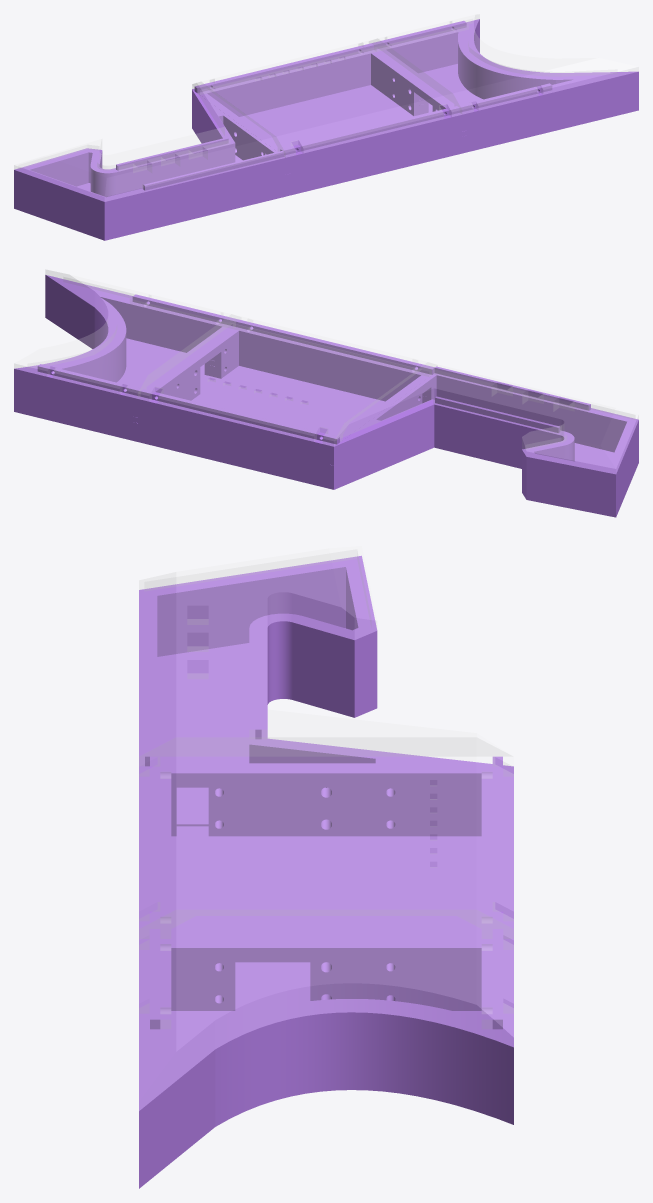
The model's file is Assem2.glb.
The picture shows the model from 3 angles, top to bottom: view 1: azimuth 30°, elevation 25°; view 2: azimuth 150°, elevation 25°; view 3: azimuth 270°, elevation 25°; orthographic projection. The views are drawn at different scales.
Parts seen in each view (by area): view 1: Base_01-1, Neck_03-1, Top_Cover_01-1, Base_02-1, Neck_Cover_03-1, Top_Cover_02-1; view 2: Base_01-1, Neck_03-1, Top_Cover_01-1, Base_02-1, Neck_Cover_03-1, Top_Cover_02-1; view 3: Top_Cover_01-1, Base_01-1, Base_02-1, Top_Cover_02-1, Neck_03-1, Neck_Cover_03-1.
Boxes of the visible parts, <box> form: Base_01-1: <box>192,43,466,196</box>; Neck_03-1: <box>14,89,290,240</box>; Top_Cover_01-1: <box>192,39,461,156</box>; Base_02-1: <box>372,19,638,153</box>; Neck_Cover_03-1: <box>14,82,284,201</box>; Top_Cover_02-1: <box>369,14,638,113</box>; Base_01-1: <box>132,319,434,489</box>; Neck_03-1: <box>329,366,638,517</box>; Top_Cover_01-1: <box>138,314,437,445</box>; Base_02-1: <box>14,275,238,441</box>; Neck_Cover_03-1: <box>335,362,638,473</box>; Top_Cover_02-1: <box>14,270,240,397</box>; Top_Cover_01-1: <box>139,738,513,938</box>; Base_01-1: <box>139,756,513,1001</box>; Base_02-1: <box>139,929,513,1188</box>; Top_Cover_02-1: <box>139,910,513,1110</box>; Neck_03-1: <box>139,555,510,829</box>; Neck_Cover_03-1: <box>139,546,511,765</box>.
Bounding box in the file's own units: 0.6138 × 0.0551 × 0.175.
